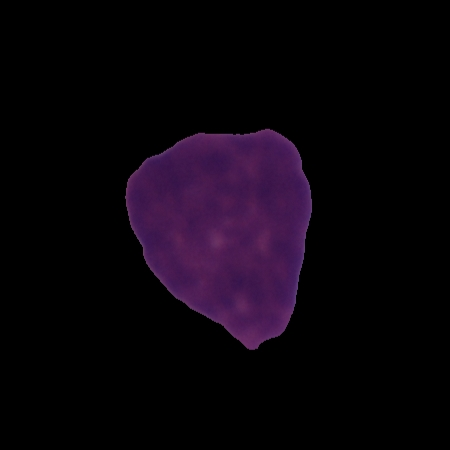ALL: (121, 123, 317, 355)
